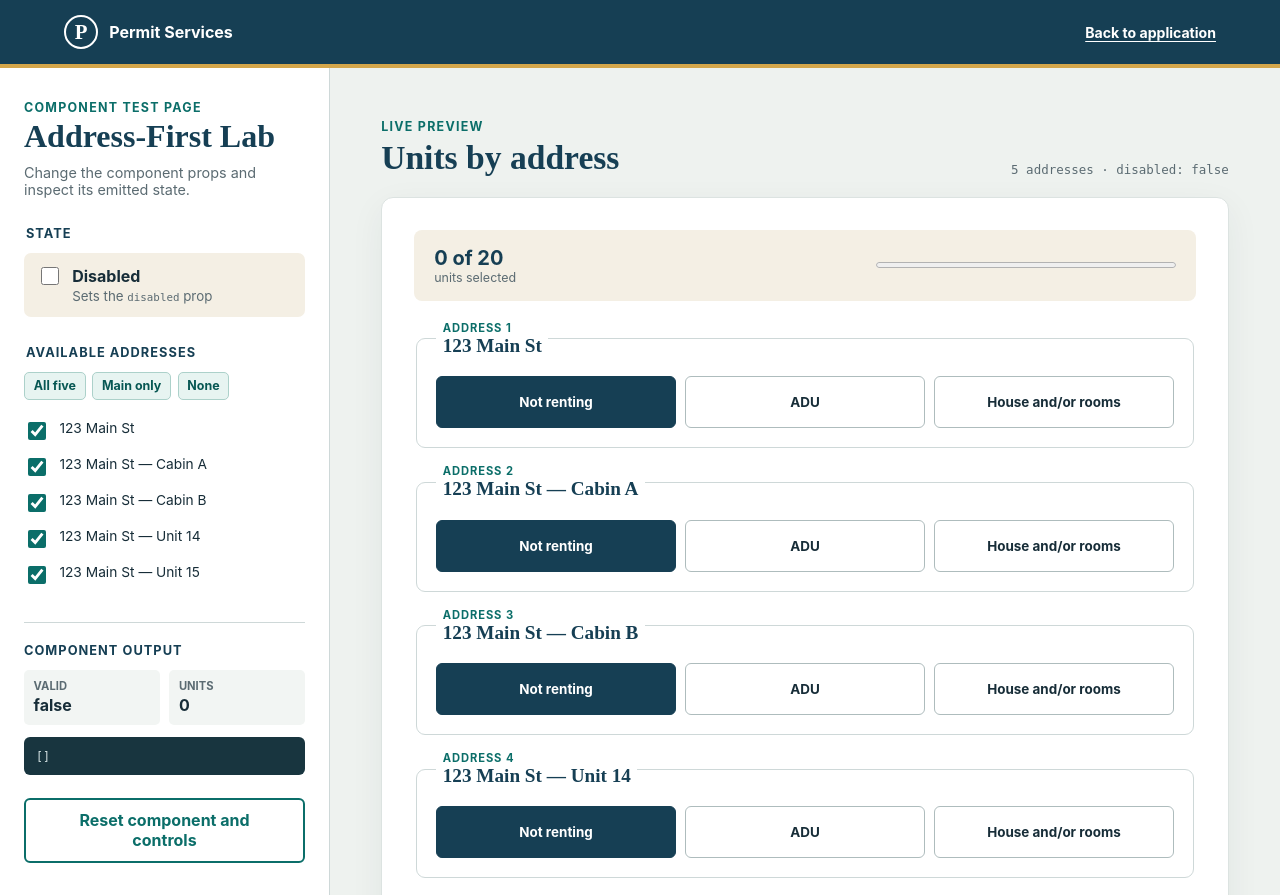
AddressUnitSelectionLab › resets component state and sidebar controls
The image size is (1280, 895).
Click the checkbox with id "address-component-disabled".
click(50, 276)  # box [41,267,59,285]
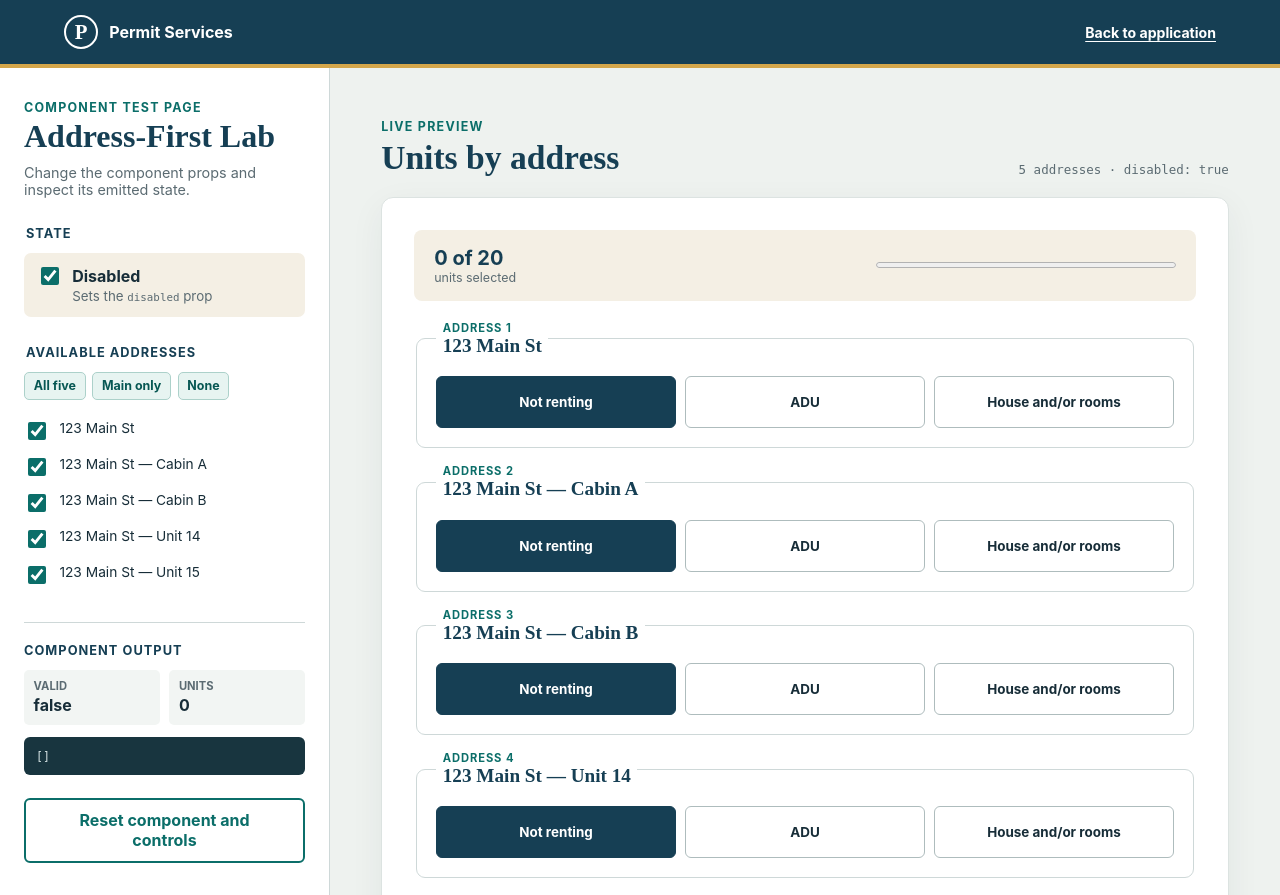
Click the button "None".
click(203, 386)  # box [178,372,229,400]
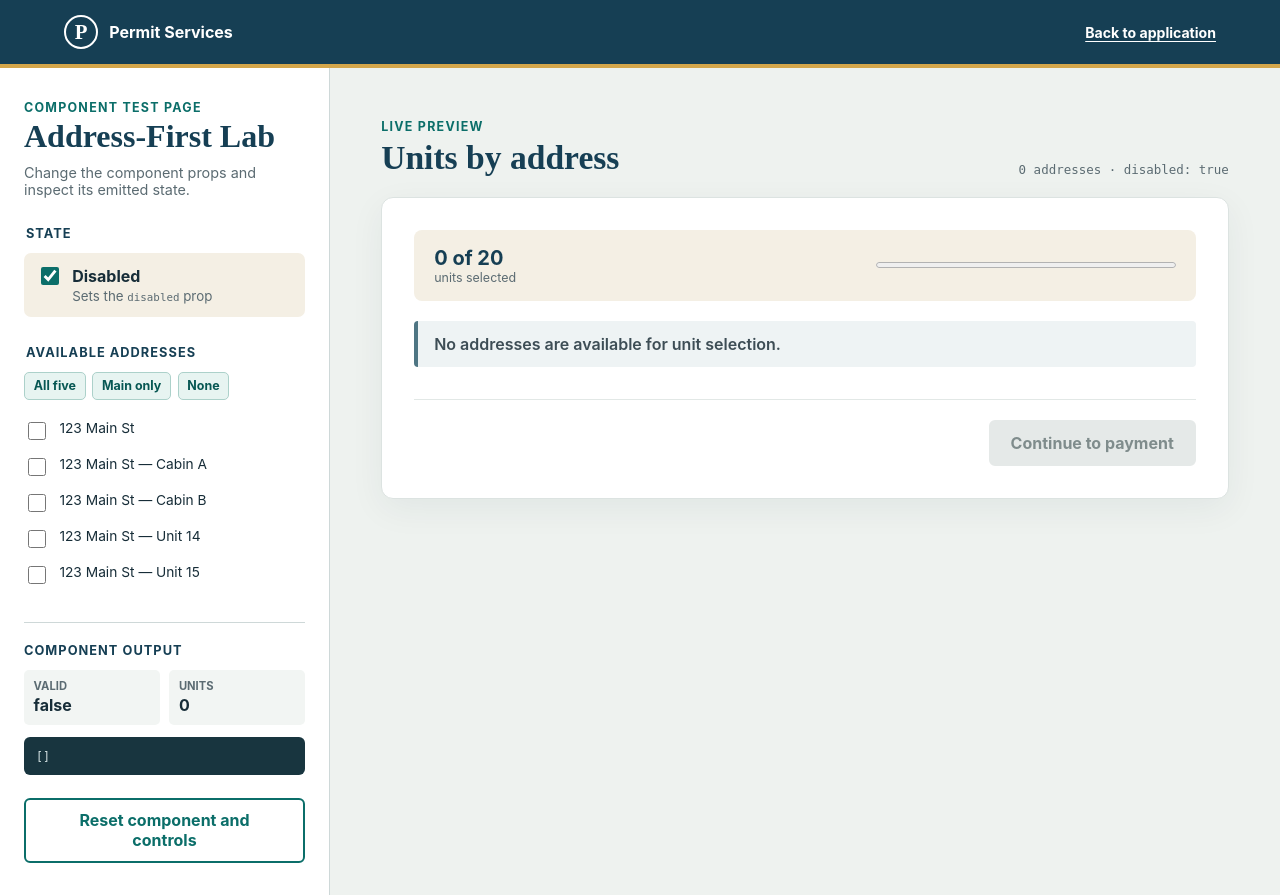
Click the button "All five".
click(55, 386)  # box [24,372,86,400]
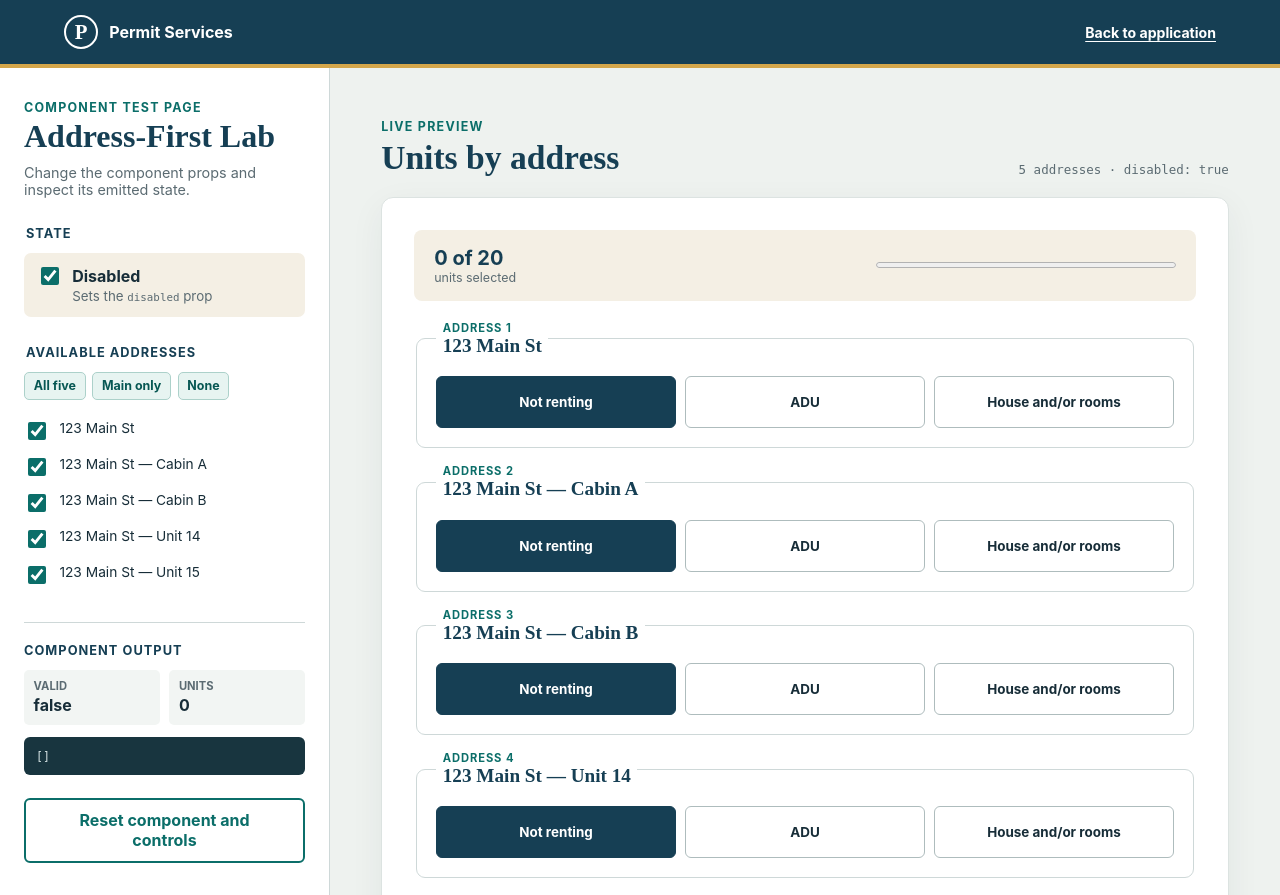
Click the radio button with id "address-mode-adu-main-house".
click(805, 402)  # box [685,376,925,428]
(page scrolled)
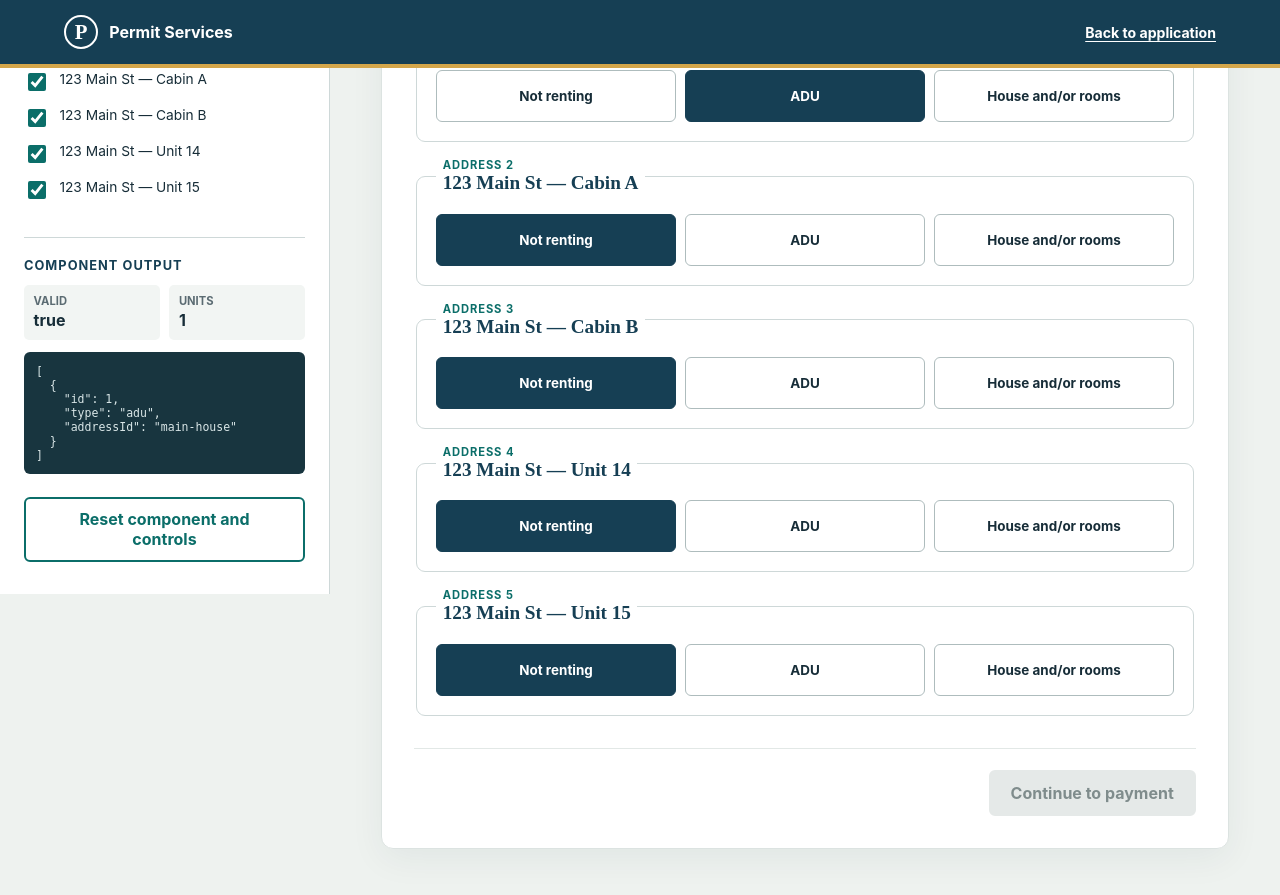
Click the button "Reset component and controls".
click(164, 529)  # box [24,497,305,562]
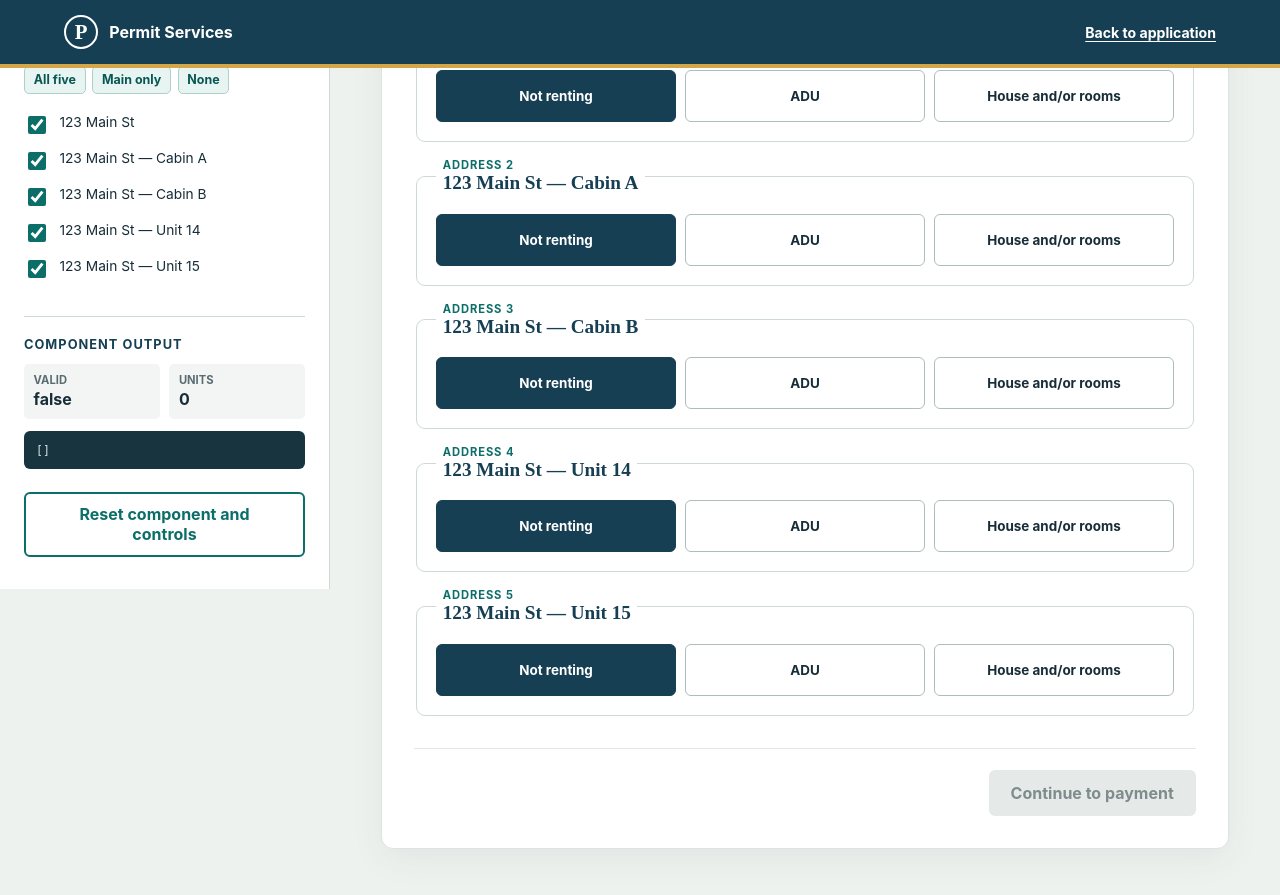
Expected: the text with id "address-lab-output-validity" reads "false", [34,389,72,409]
Expected: the text with id "address-lab-output-count" reads "0", [179,389,190,409]
